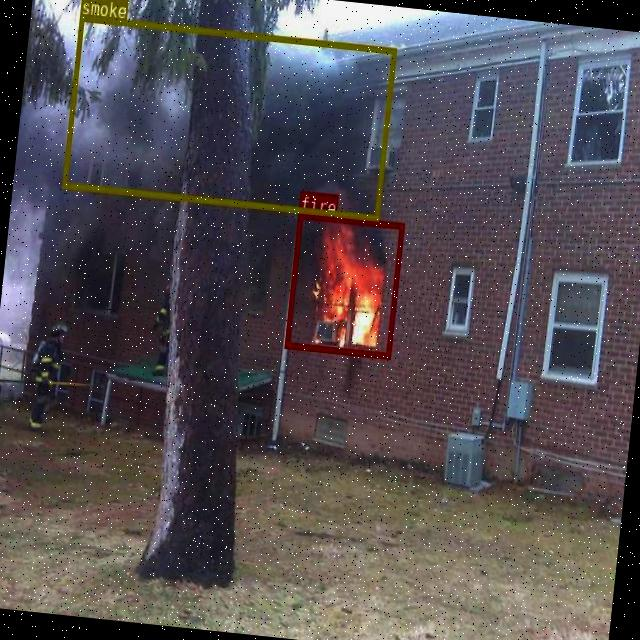fire: (284, 211, 403, 357)
smoke: (61, 13, 396, 220)
